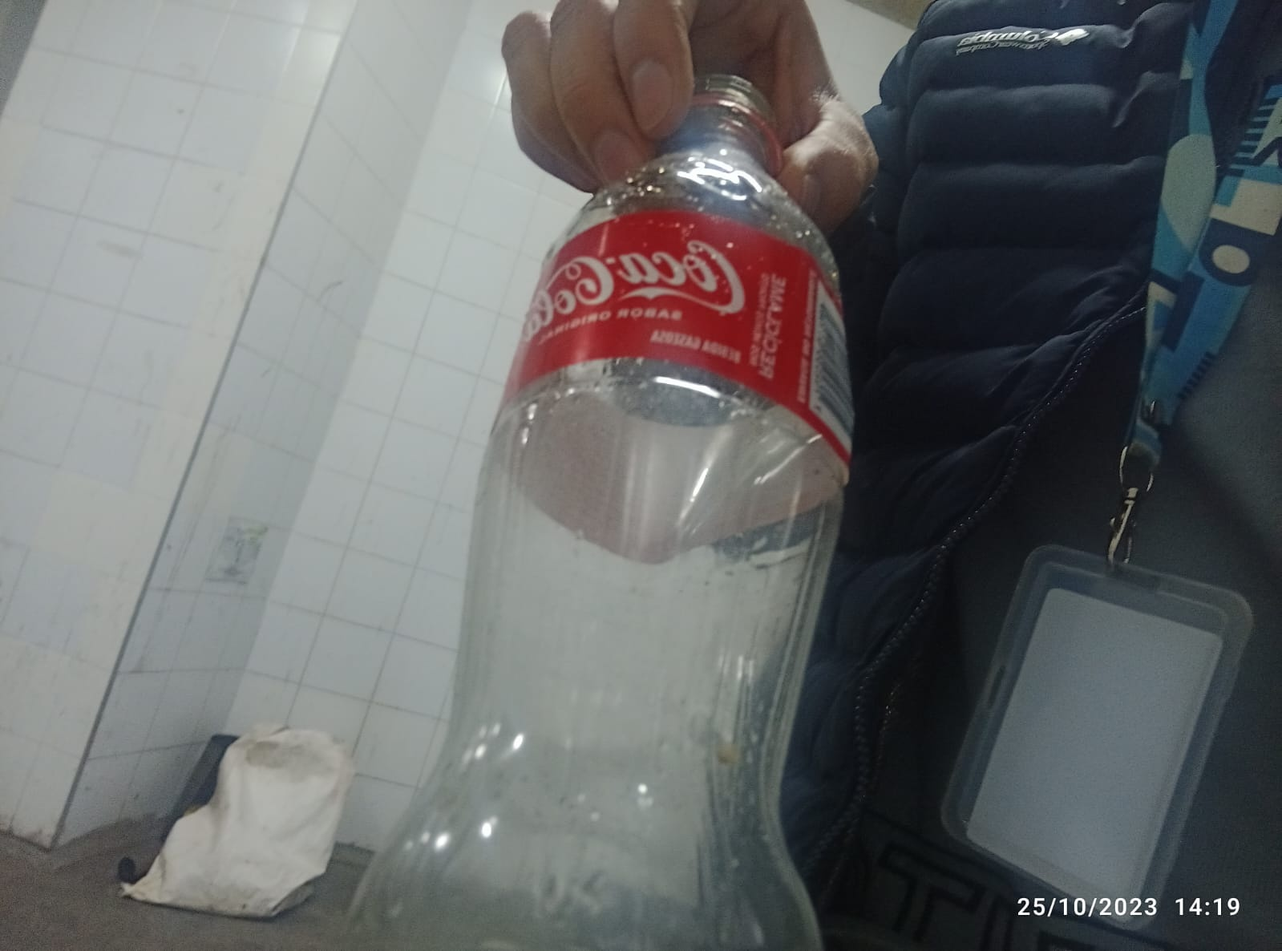Plastico: (353, 73, 851, 948)
